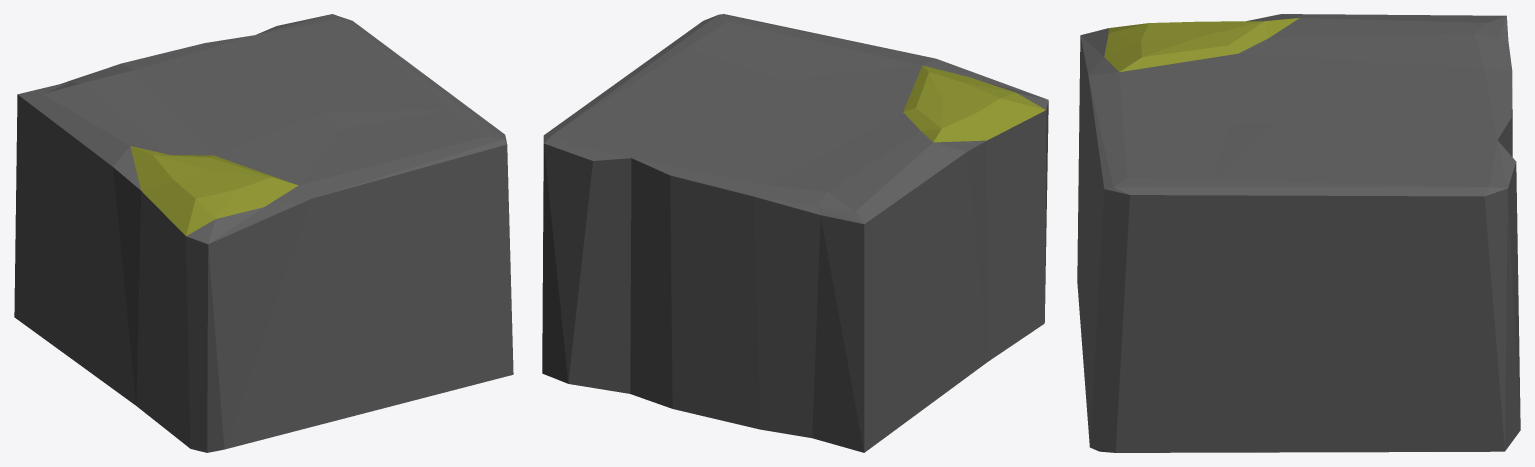
Rendered from tile_squared_moss_type_4_LOD2.fbx.
The picture shows the model from 3 angles, left to right: view 1: azimuth 30°, elevation 25°; view 2: azimuth 150°, elevation 25°; view 3: azimuth 270°, elevation 25°; orthographic projection. The views are drawn at different scales.
Visible parts, largest first — view 1: tile_squared_moss_type_4; view 2: tile_squared_moss_type_4; view 3: tile_squared_moss_type_4.
Part boxes in pixels (x1,y1,x2,y2): tile_squared_moss_type_4: [14, 14, 513, 452]; tile_squared_moss_type_4: [542, 14, 1048, 452]; tile_squared_moss_type_4: [1077, 14, 1520, 452].
Bounding box in the file's own units: 119 × 81.76 × 121.
